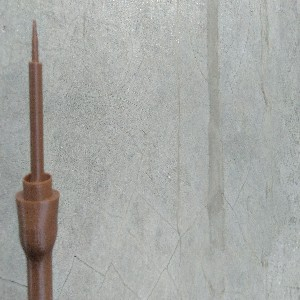solder: (14, 19, 61, 300)
